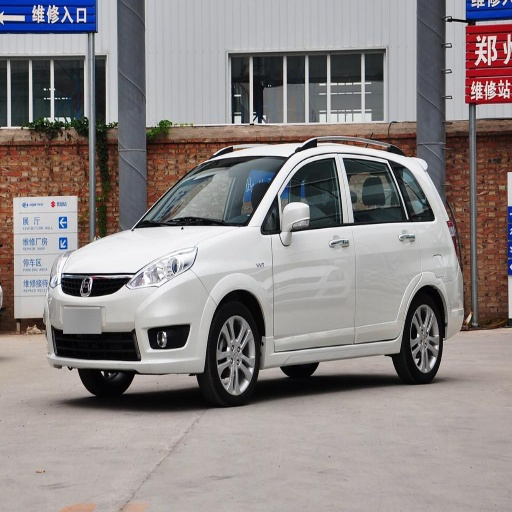front_bumper: (44, 255, 217, 371)
front_glass: (136, 159, 285, 227)
front_left_door: (268, 153, 354, 349)
